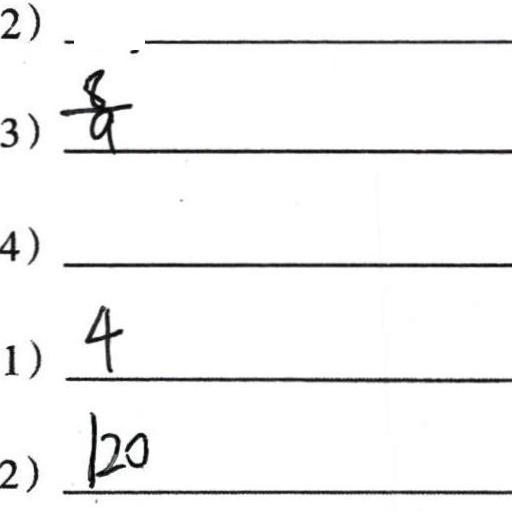ans: (58, 66, 133, 148), (77, 405, 150, 485), (77, 298, 125, 373)
